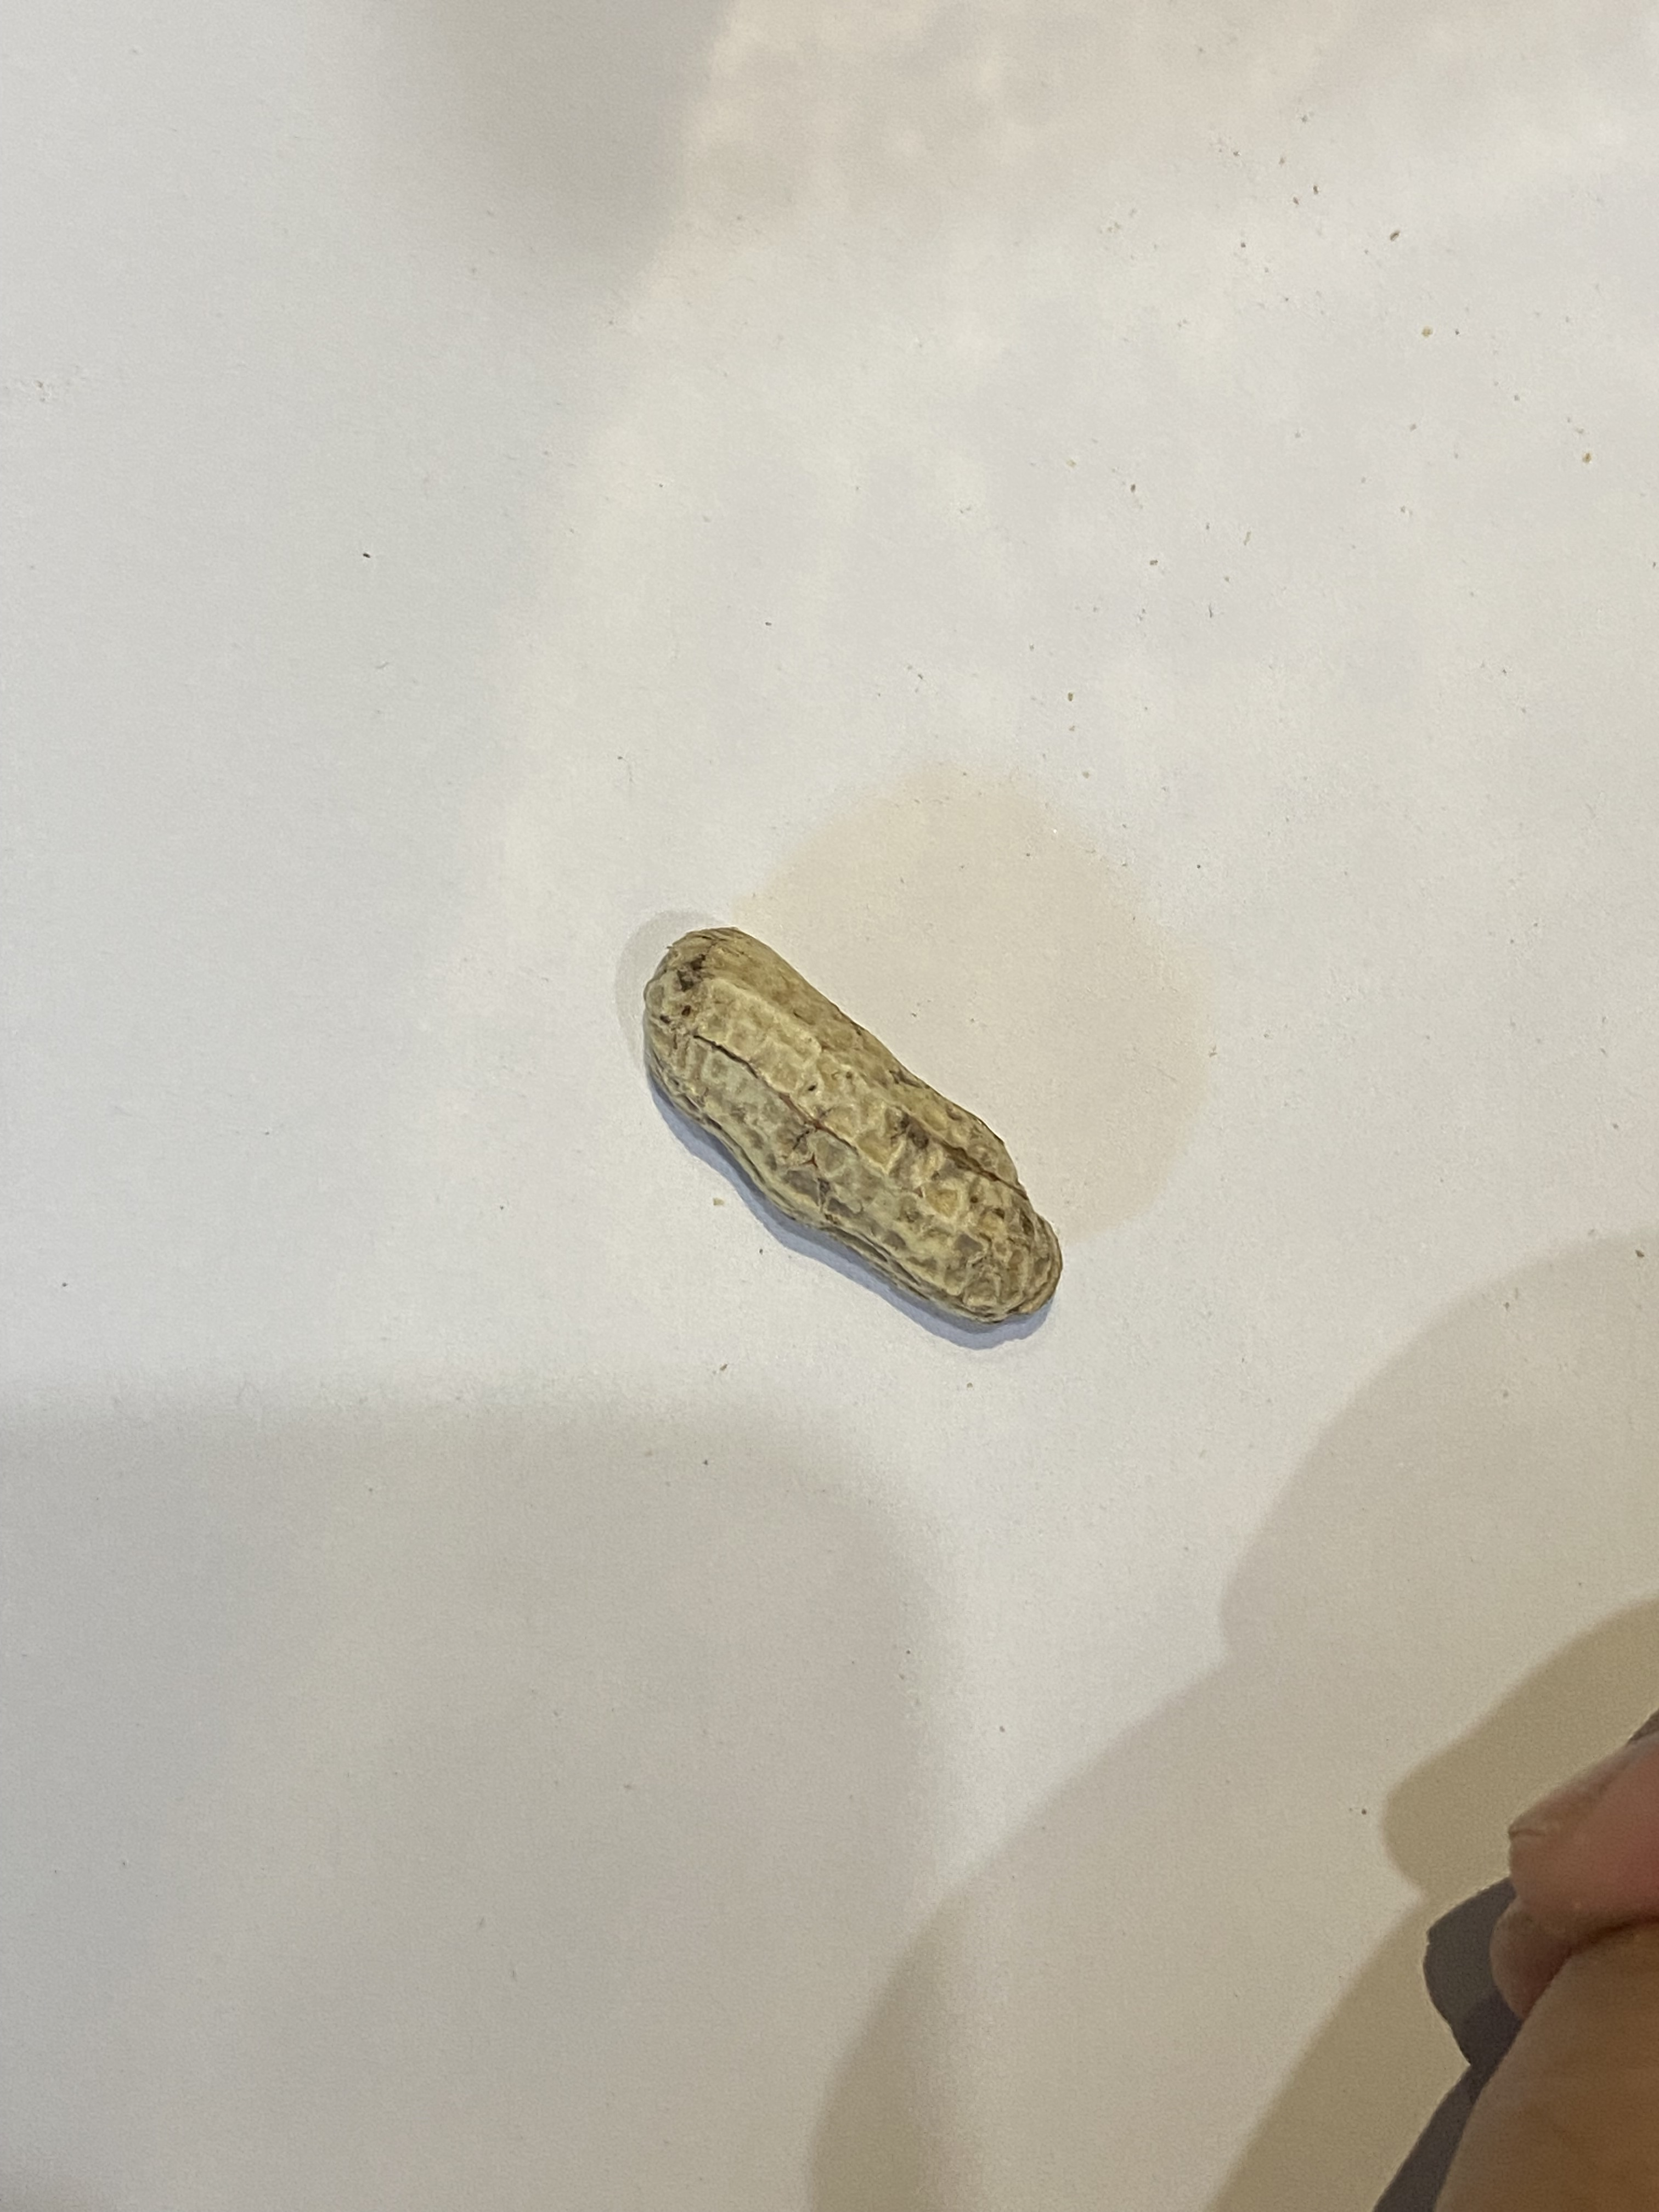kacang2: (615, 897, 1084, 1339)
